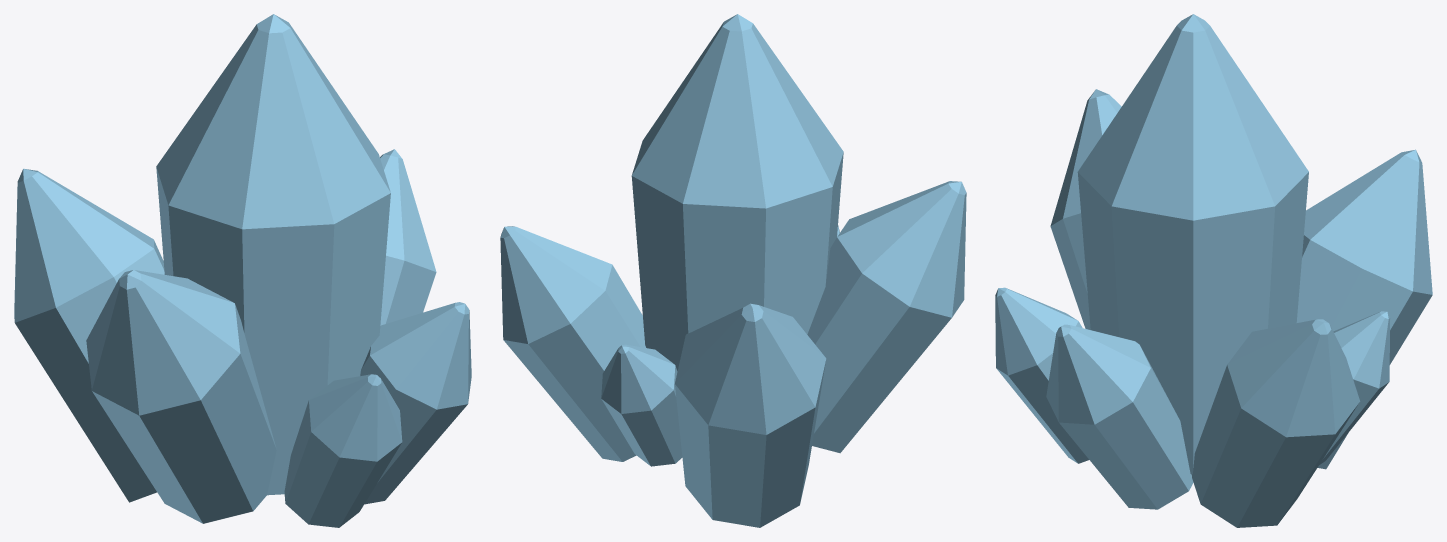
File: Cristal4.fbx
The picture shows the model from 3 angles, left to right: view 1: azimuth 30°, elevation 25°; view 2: azimuth 150°, elevation 25°; view 3: azimuth 270°, elevation 25°; orthographic projection. The views are drawn at different scales.
Visible parts, largest first — view 1: cristal.015; view 2: cristal.015; view 3: cristal.015.
Boxes of the visible parts, left/top/right/bottom form: cristal.015: left=14, top=14, right=471, bottom=527; cristal.015: left=500, top=14, right=966, bottom=527; cristal.015: left=995, top=14, right=1432, bottom=527.
Size of the model in its own units: 136 by 158 by 131.
